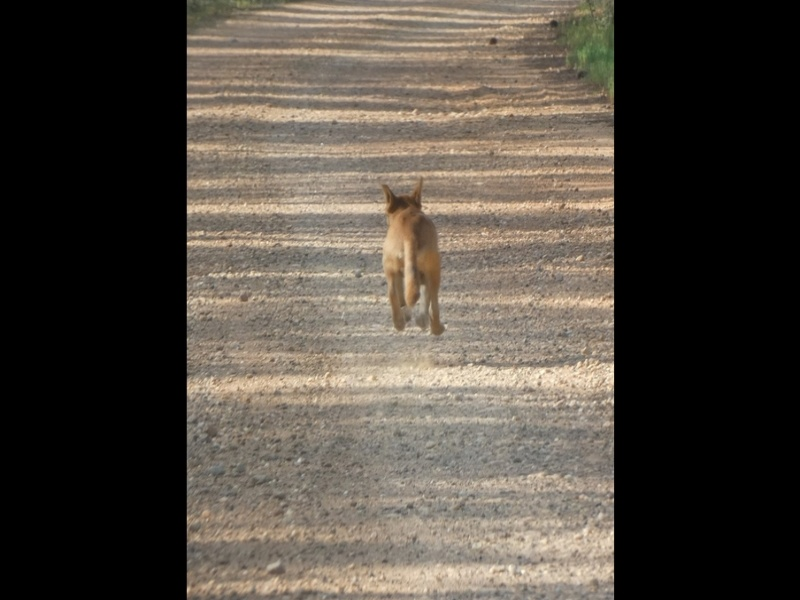dog: (372, 178, 451, 343)
